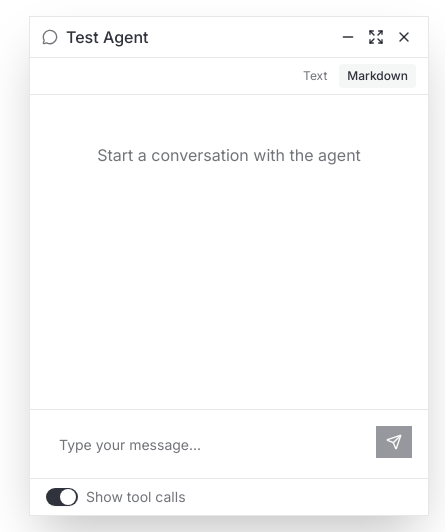
FloatingChat › streaming enabled › should display streaming chunks as they arrive
The width and height of the screenshot is (445, 532).
Type "Hi there" into the field with placeholder "Type your message...". click: (207, 444)
box: x1=46 y1=426 x2=368 y2=462
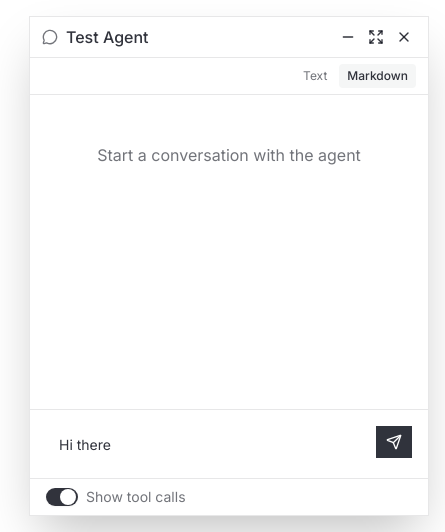
Click the button named "send". click: (394, 442)
box: x1=376 y1=426 x2=412 y2=458
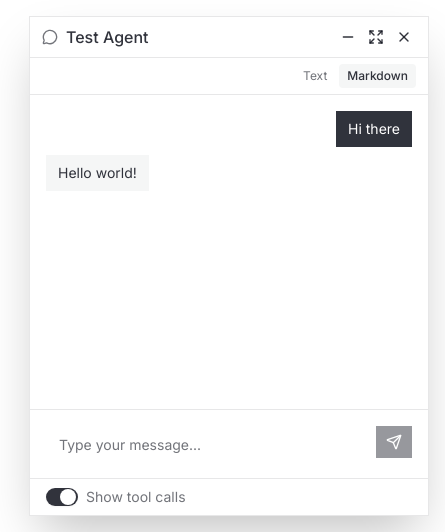
expect the text "Hi there" is shown: met, box x1=348 y1=119 x2=400 y2=139
expect the text "Hello world!" is shown: met, box x1=58 y1=163 x2=137 y2=183
